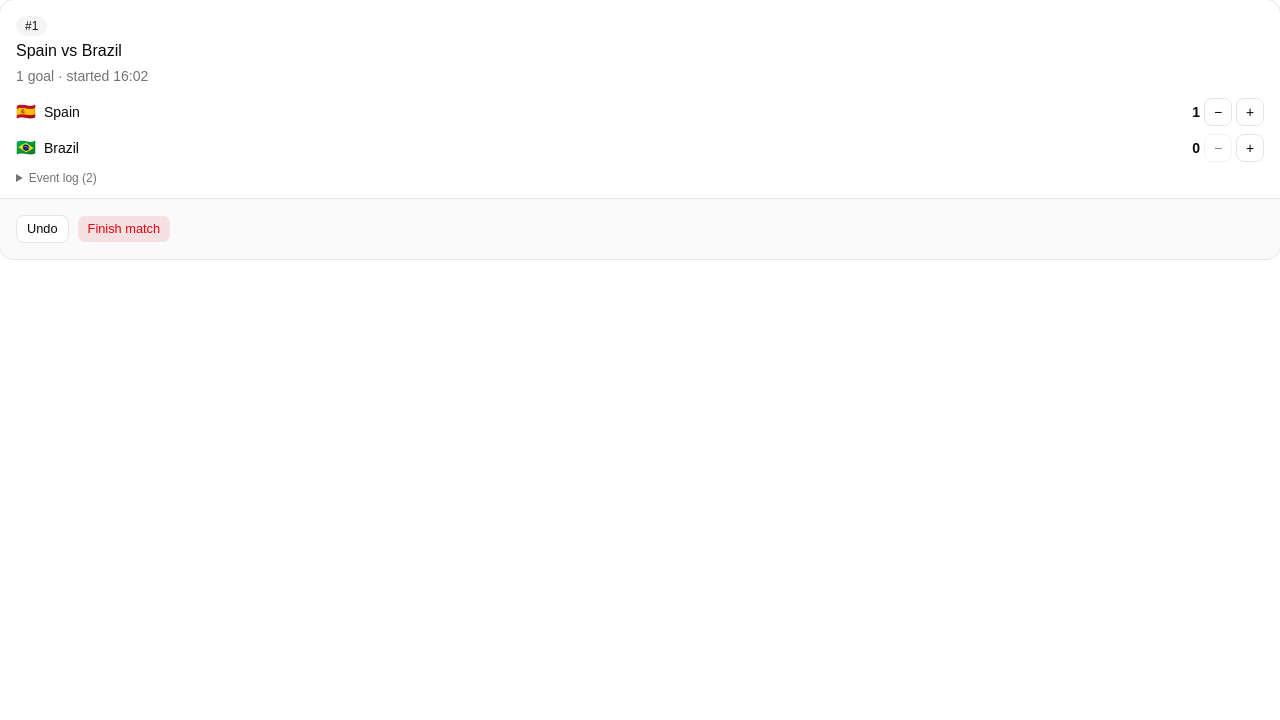
Test: MatchCard › finishing › asks for confirmation first, because finishing cannot be undone
Click the button "Finish match".
click(124, 229)  # box [77, 215, 171, 243]
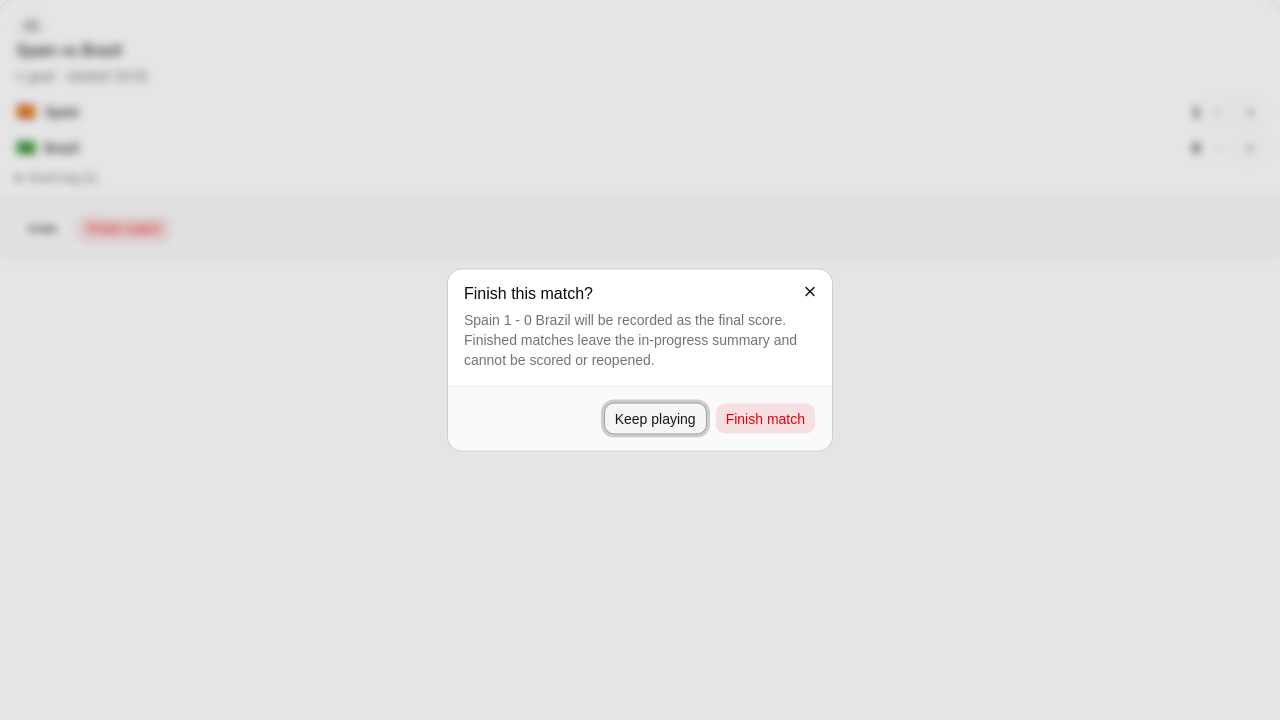
Now the text "cannot be scored or reopened" is shown, box [464, 312, 797, 368]
